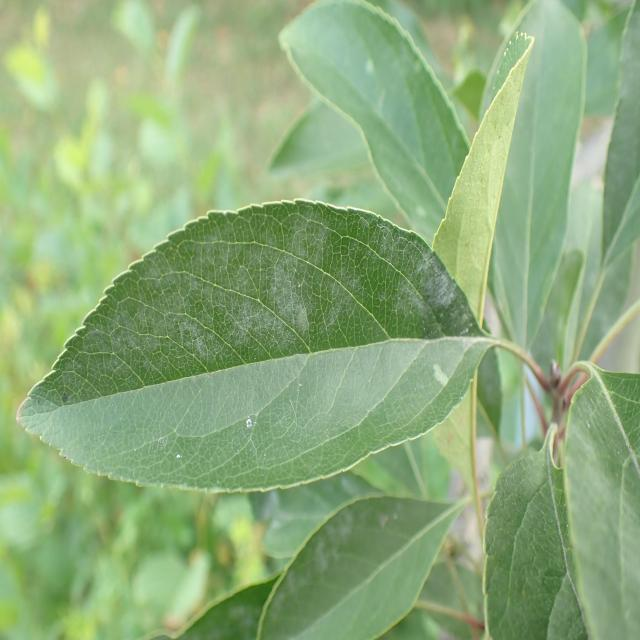Powdery_mildew: (14, 196, 502, 471), (238, 489, 466, 640)
